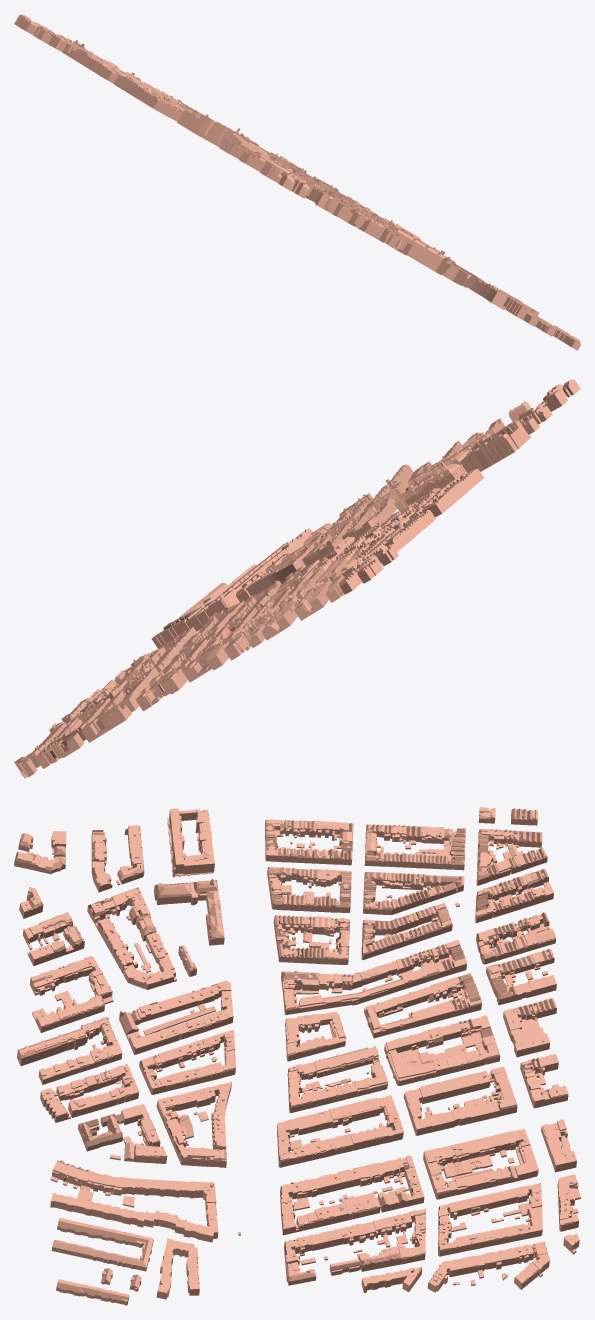
3 views of the same model, one above another, from view 1: azimuth 30°, elevation 25°; view 2: azimuth 150°, elevation 25°; view 3: azimuth 270°, elevation 25° (orthographic). The views are drawn at different scales.
Bounding box in the file's own units: 1.74e+07 × 1.31e+07 × 2.12e+07.
